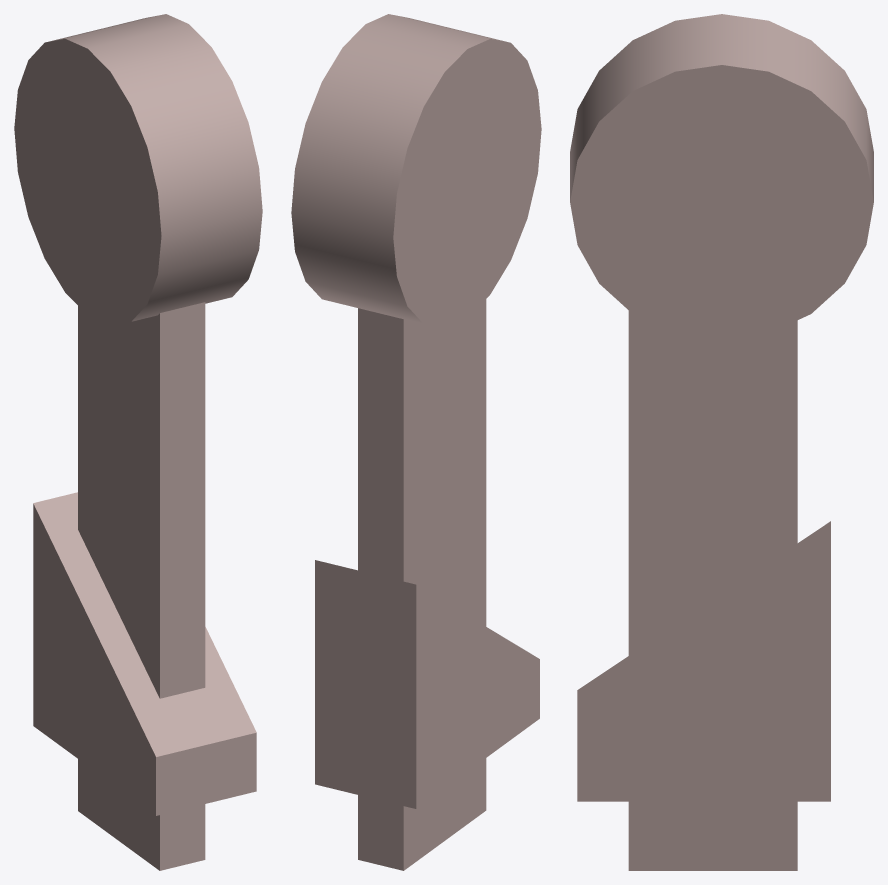
Rendered from tibia.obj.
3 renders of one model, left to right at view 1: azimuth 30°, elevation 25°; view 2: azimuth 150°, elevation 25°; view 3: azimuth 270°, elevation 25°, orthographic. The views are drawn at different scales.
Visible parts, largest first — view 1: left_leg1_feet_details; view 2: left_leg1_feet_details; view 3: left_leg1_feet_details.
Boxes of the visible parts, box(x1,y1,x2,y2) form: left_leg1_feet_details: box(14, 14, 262, 870); left_leg1_feet_details: box(291, 14, 541, 870); left_leg1_feet_details: box(570, 14, 873, 870).
Size of the model in its own units: 0.4842 by 3.57 by 1.2.
Materials: 1 (1 with a texture image).
